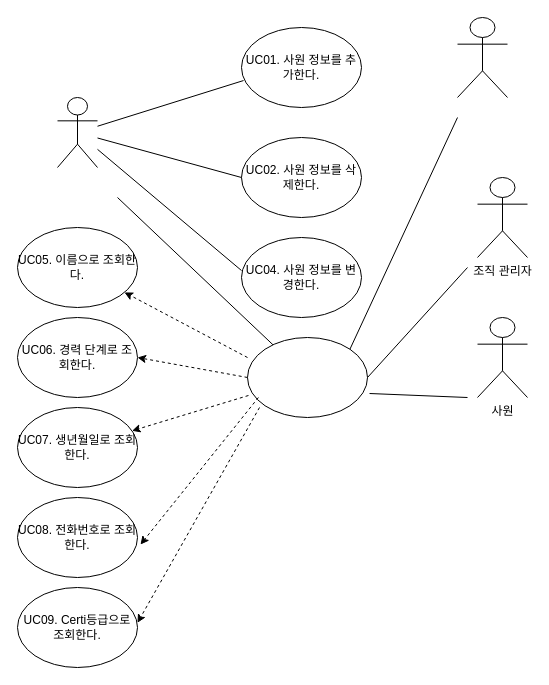
Image size: 549x685. Some labels were removed from this diagram. The box of each missing label's shape, as (x1, y1, x2, y2) in pixels:
UC03. 사원 정보를 조회 한다.: (246, 336, 368, 418)
급여 담당자: (456, 16, 508, 98)
사원 정보 관리 담당자: (56, 96, 98, 168)
